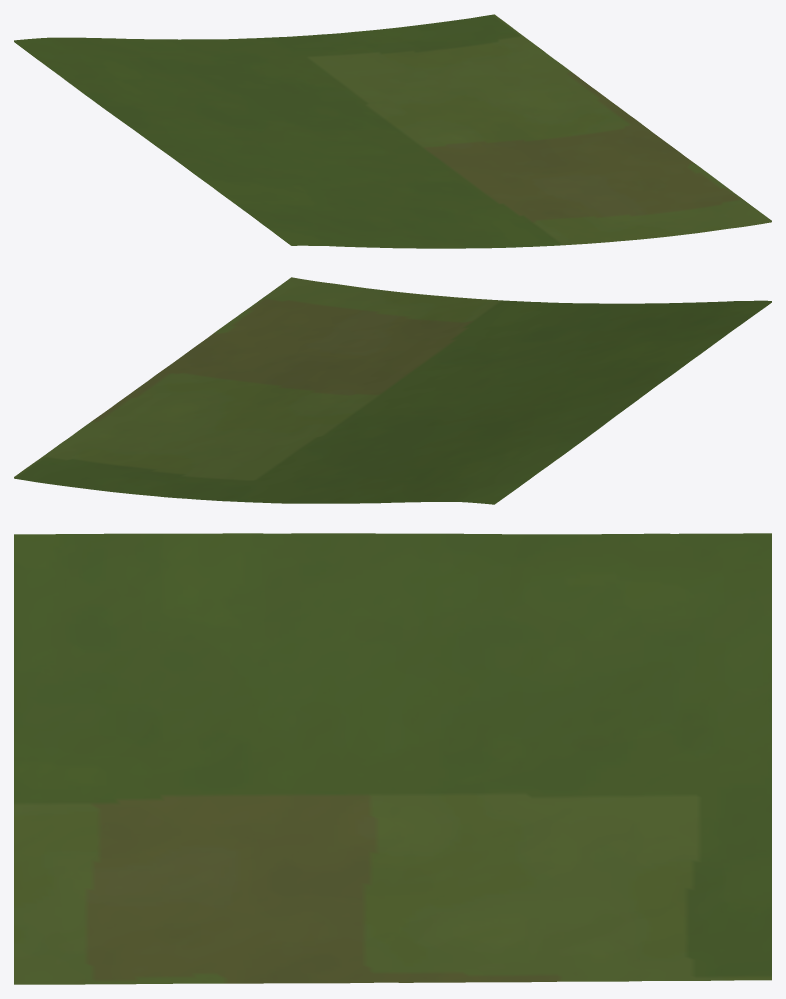
The model's file is land_n_00_04.glb.
3 renders of one model, top to bottom at view 1: azimuth 30°, elevation 25°; view 2: azimuth 150°, elevation 25°; view 3: azimuth 270°, elevation 25°, orthographic. The views are drawn at different scales.
Parts seen in each view (by area): view 1: land_n_00_04; view 2: land_n_00_04; view 3: land_n_00_04.
Part boxes in pixels (bbox=[...]): land_n_00_04: bbox=[14, 14, 771, 248]; land_n_00_04: bbox=[14, 277, 771, 504]; land_n_00_04: bbox=[14, 533, 771, 984].
Size of the model in its own units: 480 by 91.68 by 480.
